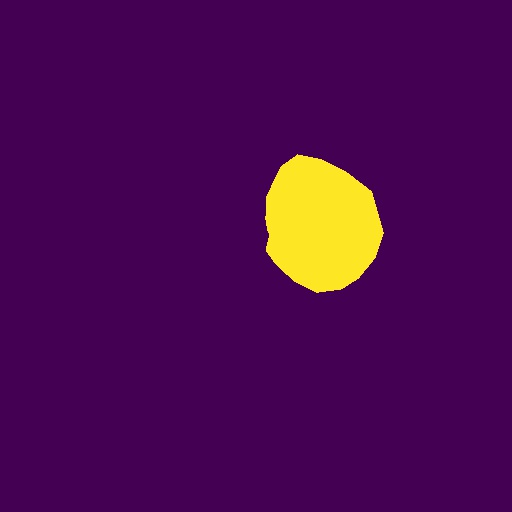Gliomia_tumour: (265, 154, 384, 293)
